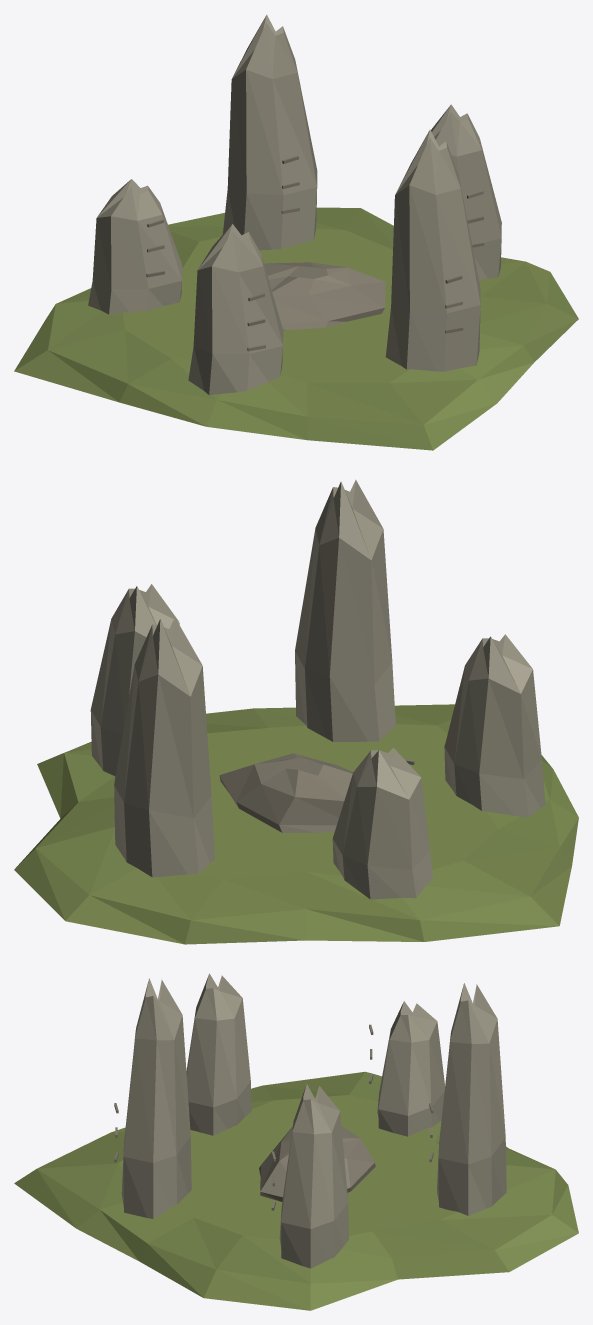
Rendered from standing-stones.glb.
3 renders of one model, top to bottom at view 1: azimuth 30°, elevation 25°; view 2: azimuth 150°, elevation 25°; view 3: azimuth 270°, elevation 25°, orthographic. The views are drawn at different scales.
Parts seen in each view (by area): view 1: standing-stones; view 2: standing-stones; view 3: standing-stones.
Part boxes in pixels (x1,y1,x2,y2): standing-stones: (14,14,578,450); standing-stones: (14,479,578,944); standing-stones: (14,973,578,1310).
Size of the model in its own units: 4.58 by 2.15 by 4.61.
